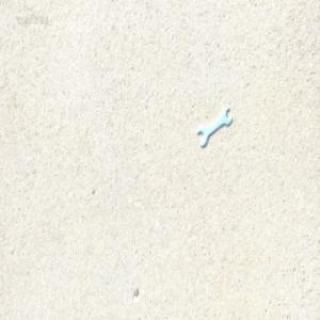Wrenchtrack_idkeyframe: (197, 108, 230, 146)
